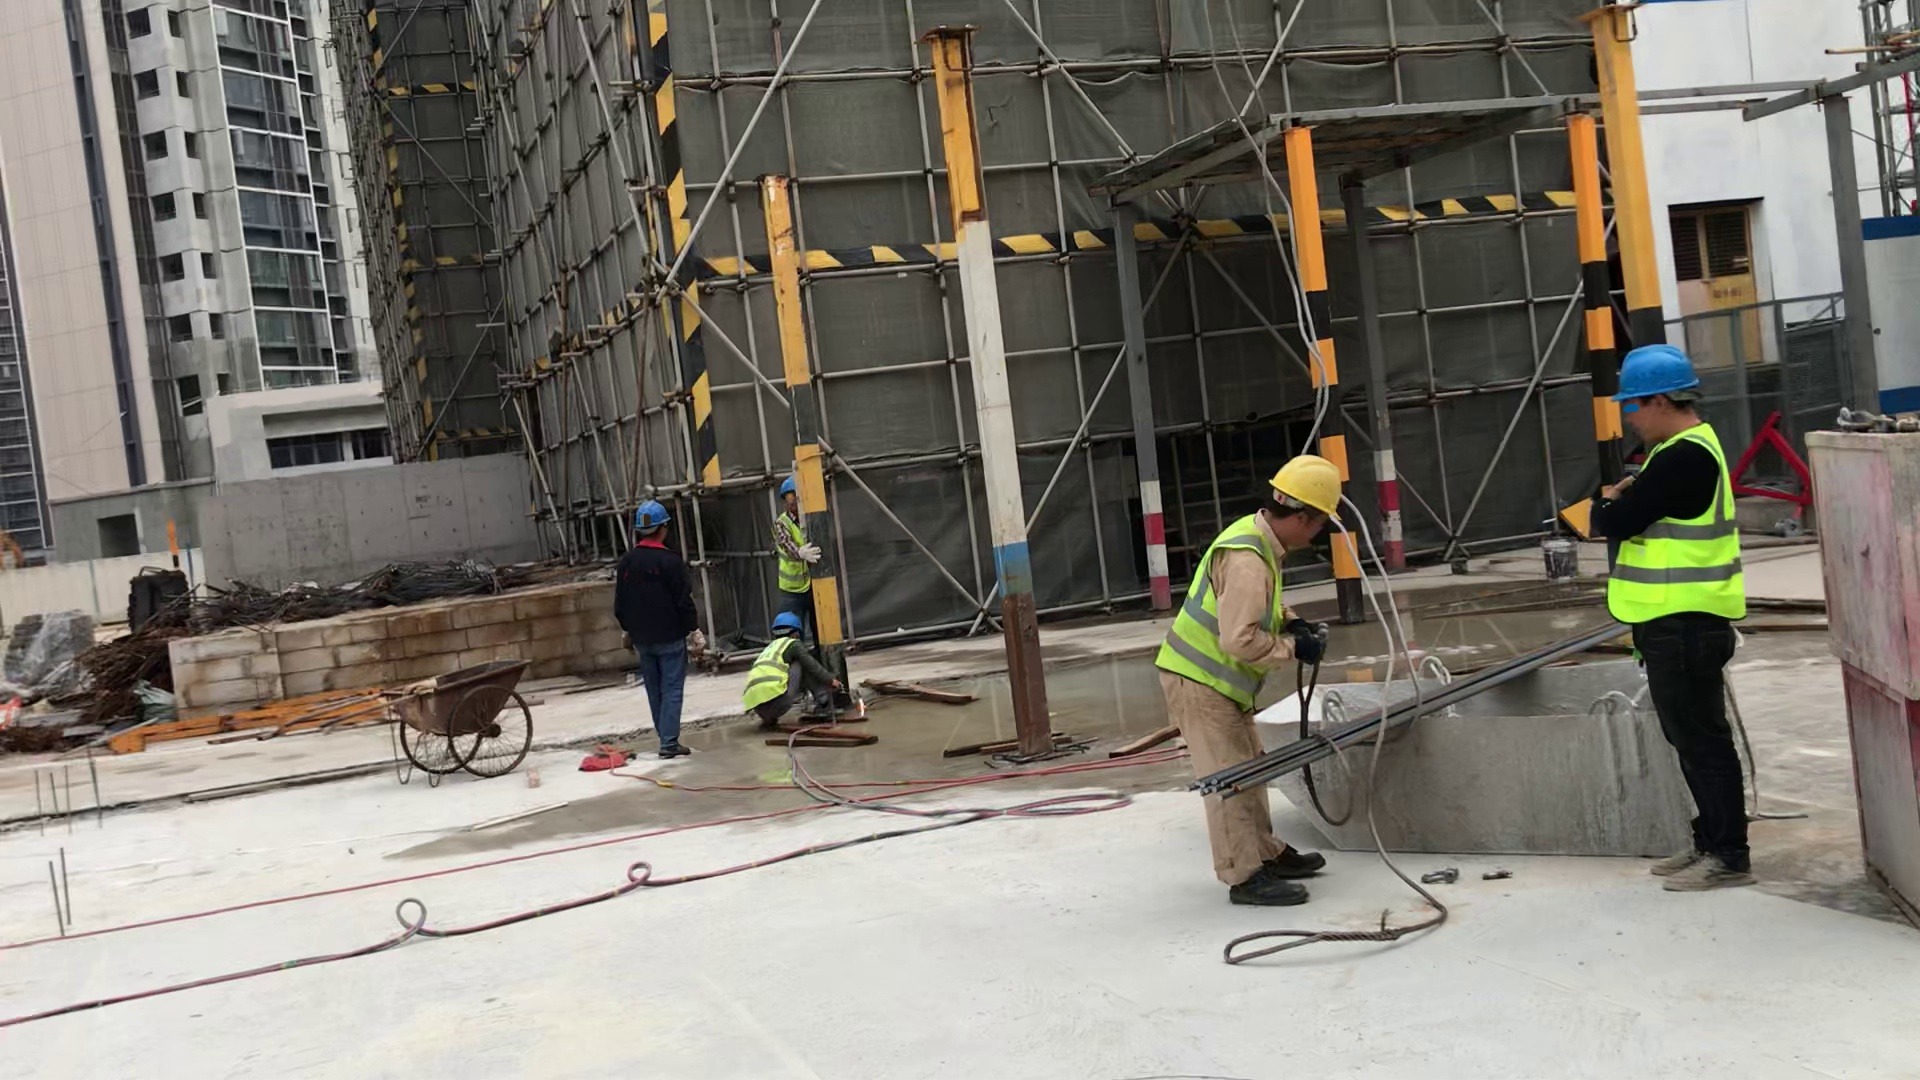helmet: (1263, 434, 1359, 545), (1602, 335, 1706, 415), (623, 492, 692, 531), (761, 606, 816, 638), (770, 473, 809, 515)
person: (1582, 334, 1800, 926), (1151, 434, 1385, 926), (597, 489, 712, 768), (743, 604, 846, 747), (770, 473, 833, 618)
vest: (1149, 504, 1301, 722), (1605, 426, 1757, 626), (744, 635, 818, 722), (766, 507, 825, 589)
